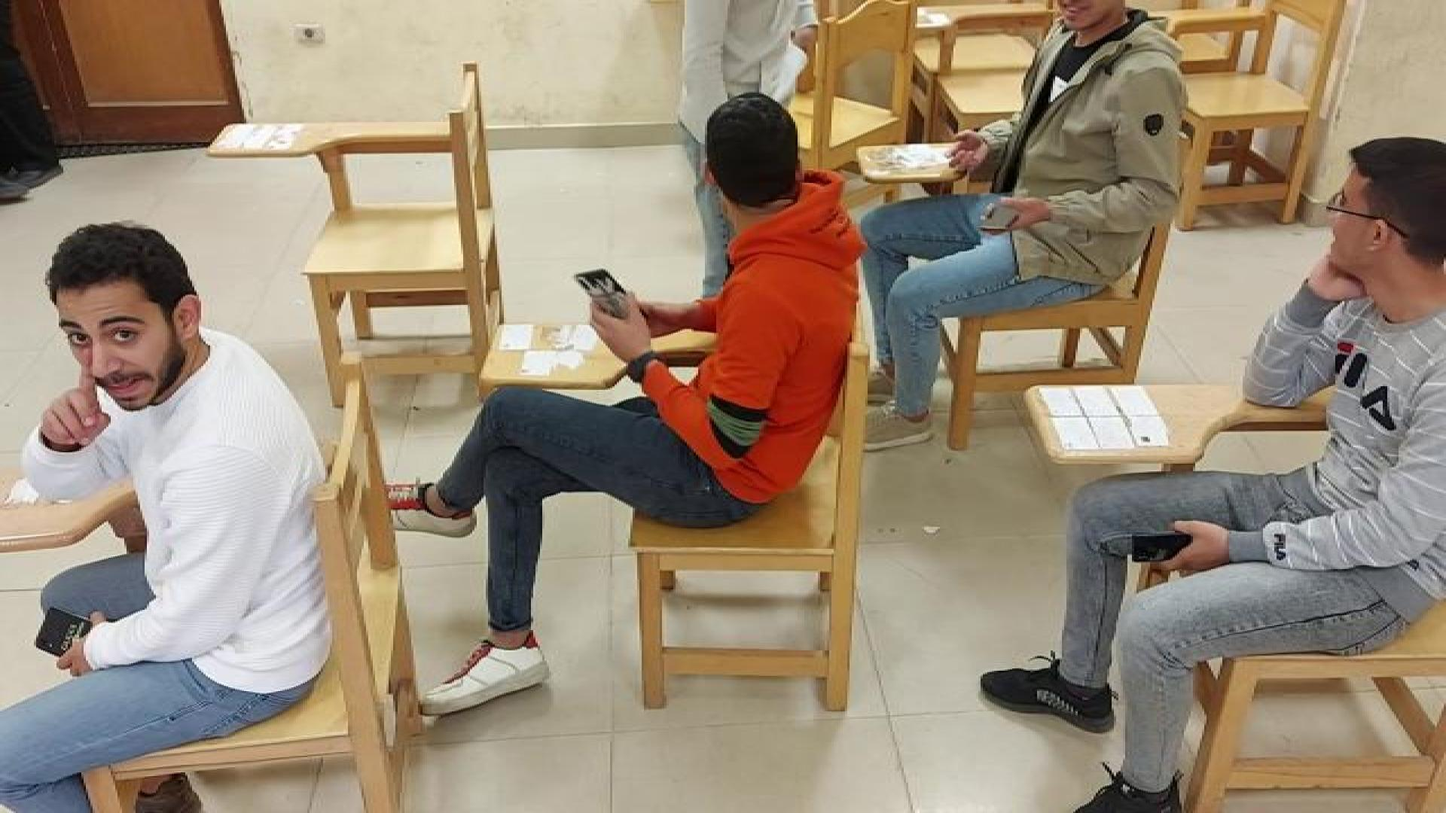phone: (36, 603, 113, 669), (573, 268, 645, 324), (1130, 534, 1197, 562), (982, 199, 1022, 233)
